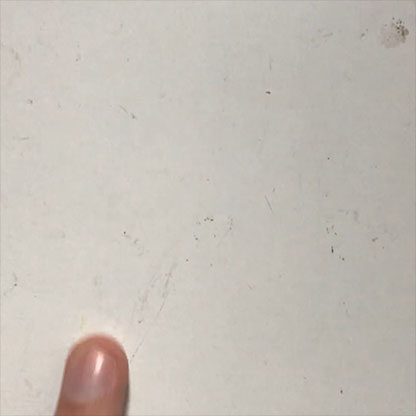fingertip: (44, 323, 144, 412)
